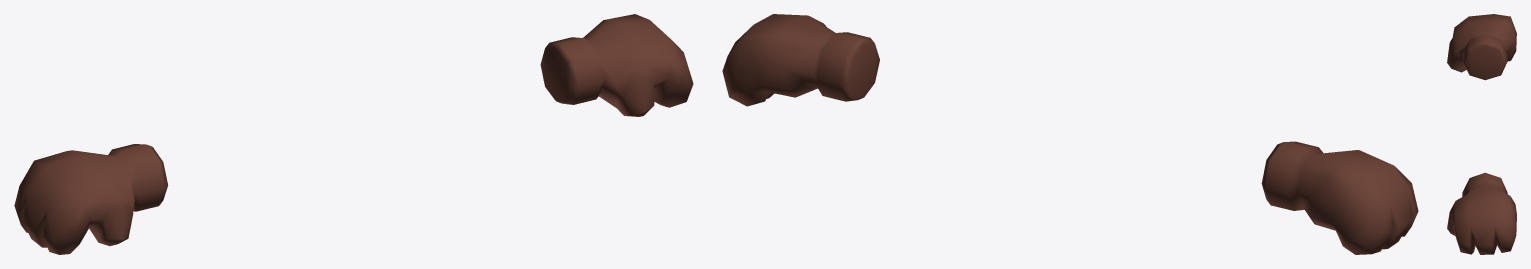
The model's file is Hands_2.fbx.
3 renders of one model, left to right at view 1: azimuth 30°, elevation 25°; view 2: azimuth 150°, elevation 25°; view 3: azimuth 270°, elevation 25°, orthographic. The views are drawn at different scales.
Visible parts, largest first — view 1: Hands_2; view 2: Hands_2; view 3: Hands_2.
Boxes of the visible parts, box(x1,y1,x2,y2) form: Hands_2: box(14, 14, 693, 254); Hands_2: box(722, 14, 1418, 254); Hands_2: box(1447, 14, 1516, 254).
Size of the model in its own units: 132 by 15.73 by 18.87.
